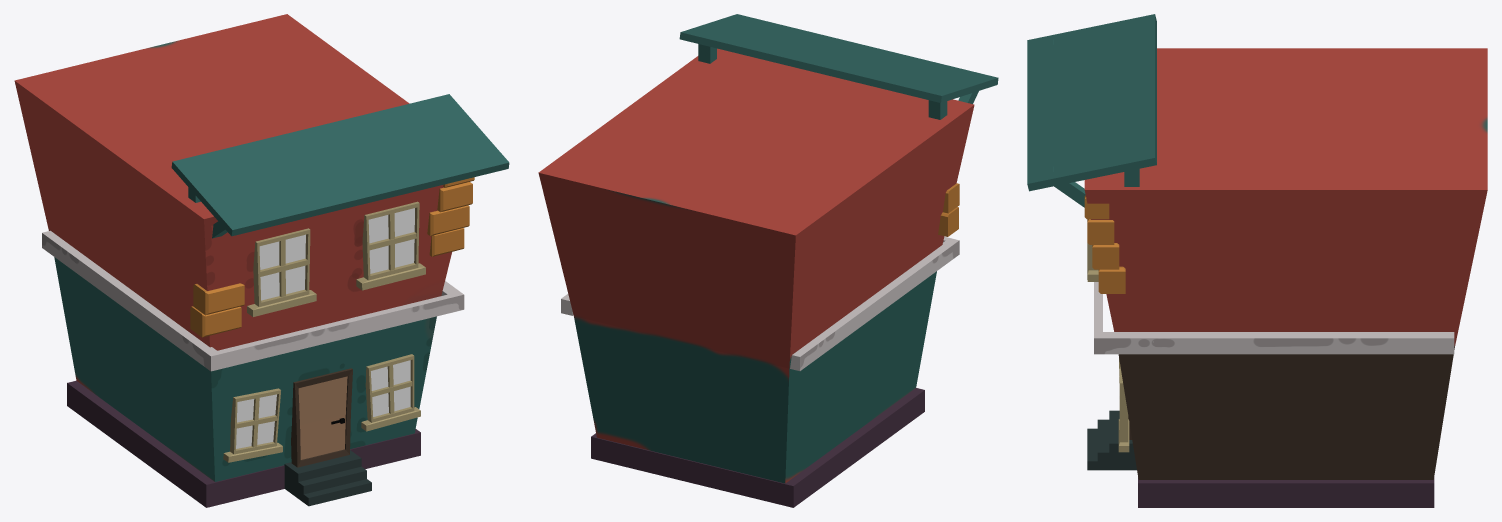
Rendered from casarojaazul.fbx.
The picture shows the model from 3 angles, left to right: view 1: azimuth 30°, elevation 25°; view 2: azimuth 150°, elevation 25°; view 3: azimuth 270°, elevation 25°; orthographic projection. The views are drawn at different scales.
Parts seen in each view (by area): view 1: Cube.047, Cube.056, Cube.022, Cube.044, Cube.035, Cube.052, Cube.051, Cube.046, Cube.023, Cube.034, Cube.050, Cube.049 (+3 smaller); view 2: Cube.047, Cube.056, Cube.044, Cube.022; view 3: Cube.047, Cube.035, Cube.056, Cube.022, Cube.044, Cube.034, Cube.046, Cube.036, Cube.037, Cube.038.
Boxes of the visible parts, x1=… form: Cube.047: x1=14, y1=14, x2=451, y2=481; Cube.056: x1=171, y1=94, x2=509, y2=238; Cube.022: x1=42, y1=230, x2=464, y2=371; Cube.044: x1=67, y1=380, x2=420, y2=507; Cube.035: x1=291, y1=368, x2=352, y2=467; Cube.052: x1=356, y1=201, x2=425, y2=290; Cube.051: x1=247, y1=228, x2=316, y2=316; Cube.046: x1=361, y1=354, x2=420, y2=431; Cube.023: x1=223, y1=388, x2=282, y2=462; Cube.034: x1=284, y1=450, x2=371, y2=506; Cube.050: x1=193, y1=283, x2=244, y2=315; Cube.049: x1=190, y1=306, x2=241, y2=337; Cube.047: x1=538, y1=48, x2=974, y2=483; Cube.056: x1=679, y1=14, x2=998, y2=119; Cube.044: x1=591, y1=388, x2=924, y2=507; Cube.022: x1=561, y1=236, x2=959, y2=370; Cube.047: x1=1084, y1=48, x2=1487, y2=346; Cube.035: x1=1118, y1=346, x2=1454, y2=479; Cube.056: x1=1027, y1=14, x2=1156, y2=207; Cube.022: x1=1094, y1=282, x2=1454, y2=354; Cube.044: x1=1138, y1=477, x2=1434, y2=507; Cube.034: x1=1087, y1=410, x2=1136, y2=470; Cube.046: x1=1118, y1=362, x2=1129, y2=452; Cube.036: x1=1098, y1=266, x2=1125, y2=293; Cube.037: x1=1092, y1=243, x2=1119, y2=269; Cube.038: x1=1087, y1=219, x2=1114, y2=244.
Bounding box in the file's own units: 727 × 865 × 978.
